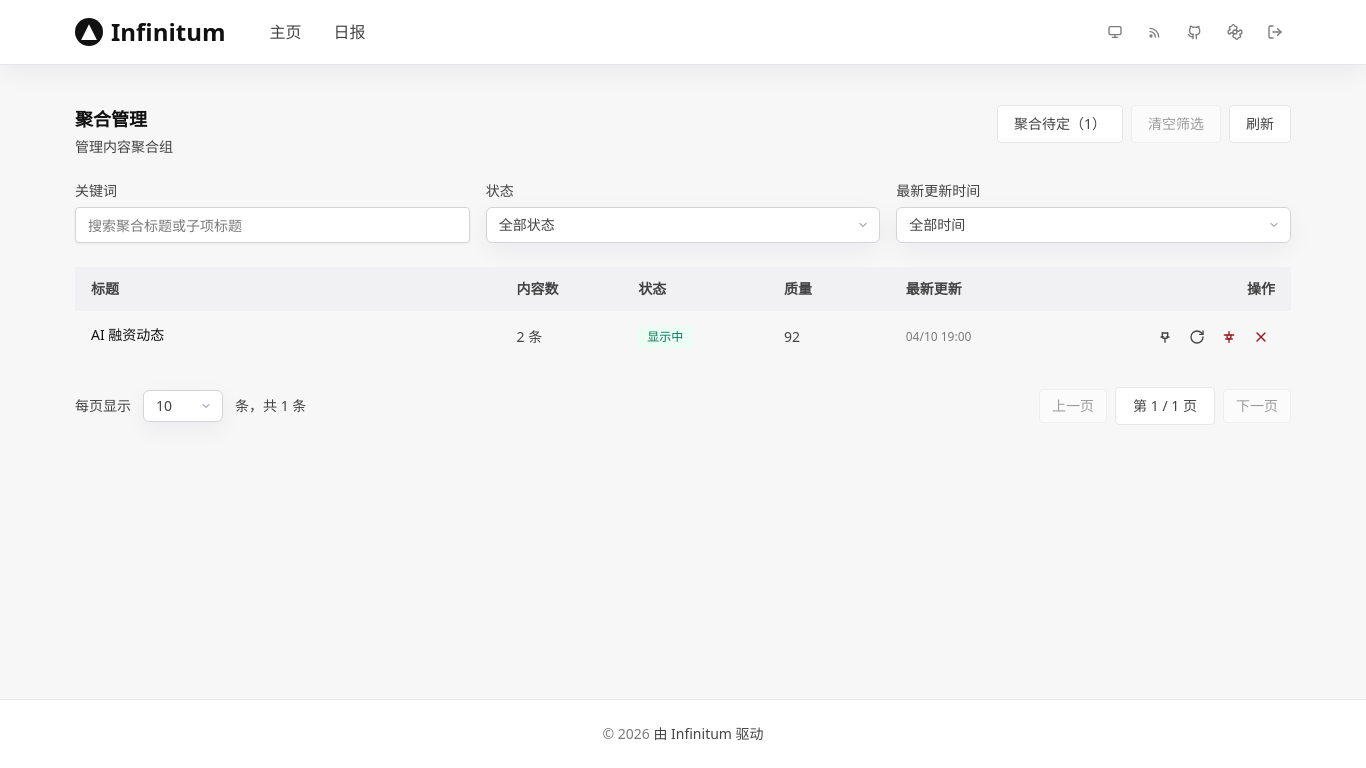
Scenario: ContentReviewPanel › loads cluster review candidates and merges one from the review queue
The width and height of the screenshot is (1366, 768).
Click the button "聚合待定（1）" at (1060, 124), box [997, 105, 1123, 143]
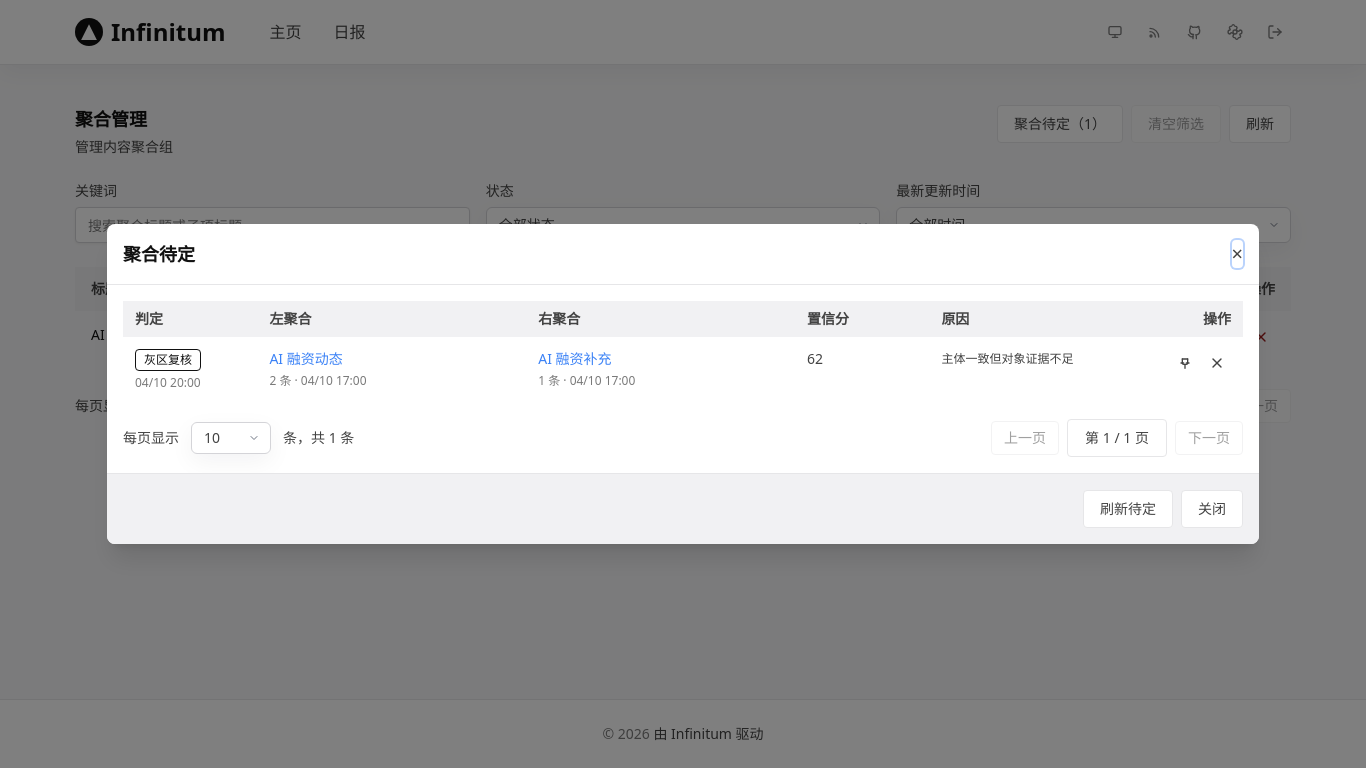
Expected: the button "AI 融资补充" is shown
Expected: the column heading "置信分" is shown, [795, 301, 929, 337]
Expected: the text "62" is shown, [795, 337, 929, 403]
Click the button "AI 融资补充" at (575, 359), box [538, 349, 612, 369]
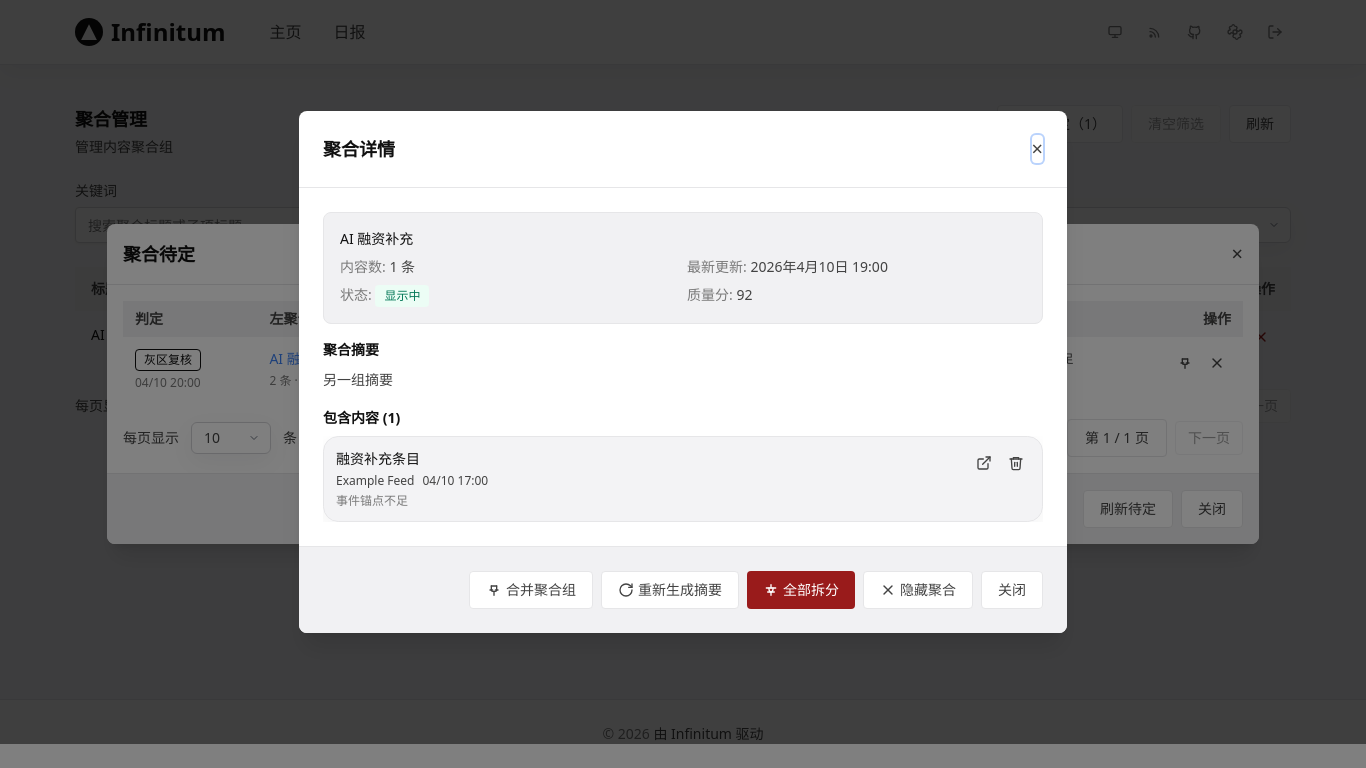
Expected: the text "另一组摘要" is shown, [323, 370, 393, 389]
Expected: the heading "包含内容 (1)" is shown, [323, 408, 400, 427]
Expected: the text "融资补充条目" is shown, [336, 449, 420, 468]
Click the button "关闭" at (1012, 590), box [981, 571, 1043, 609]
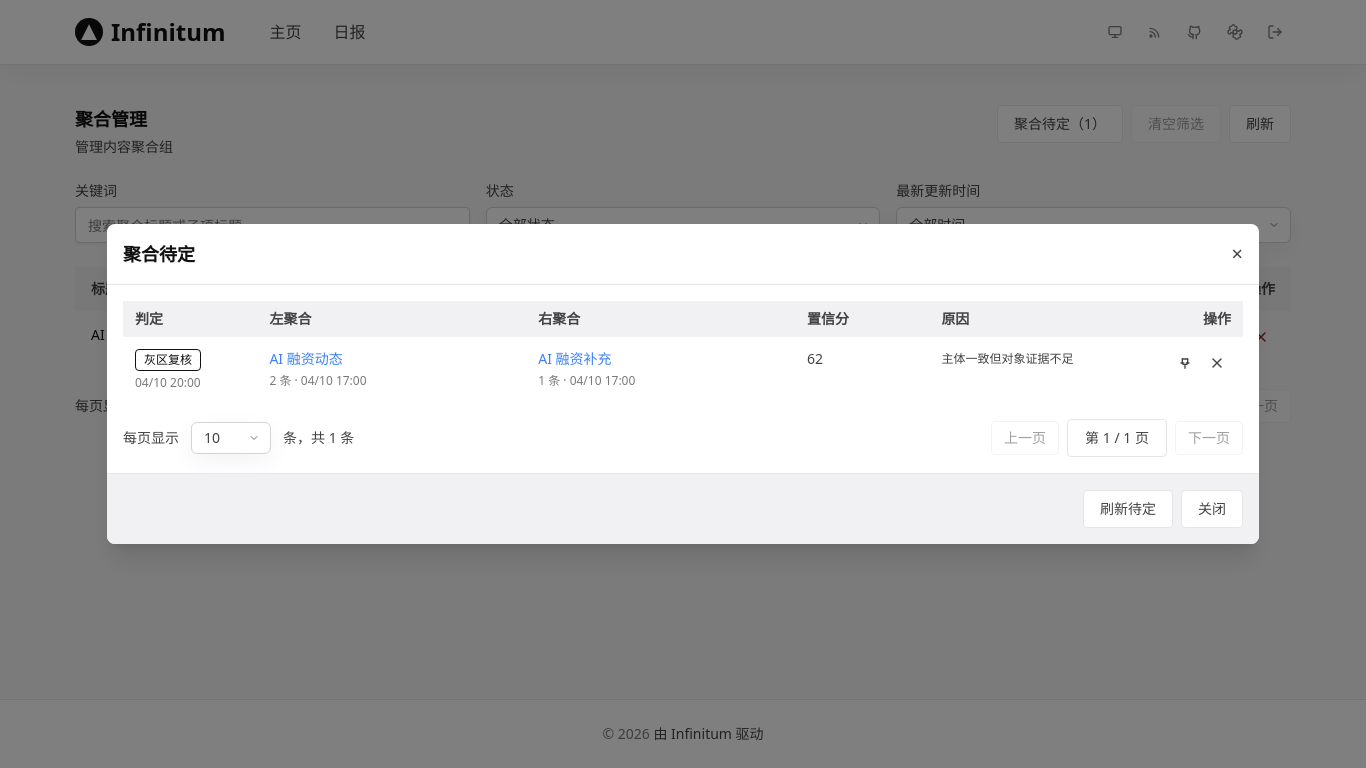
Click the button named "合并待定" at (1185, 363), box [1171, 349, 1199, 377]
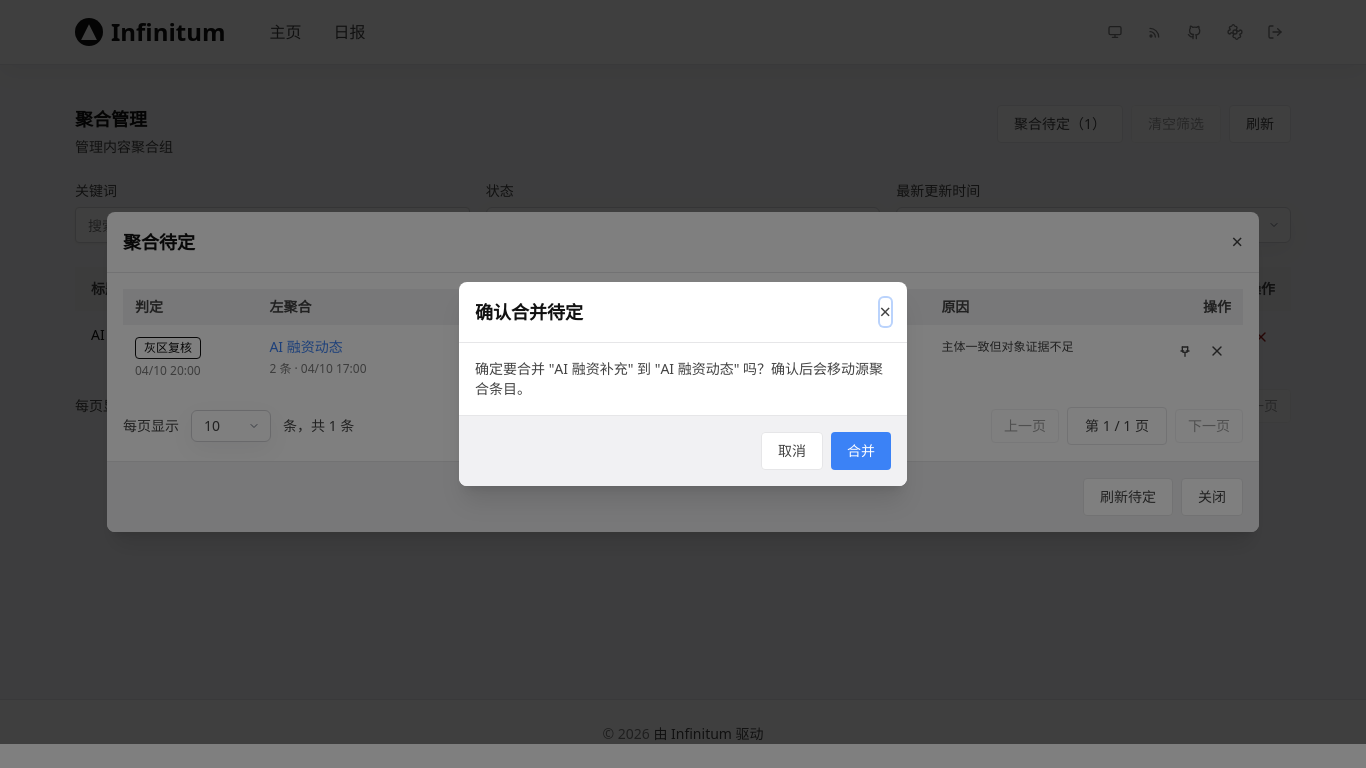
Expected: the dialog "确认合并待定" is shown, [459, 282, 907, 486]
Click the button "合并" at (861, 451), box [831, 432, 891, 470]
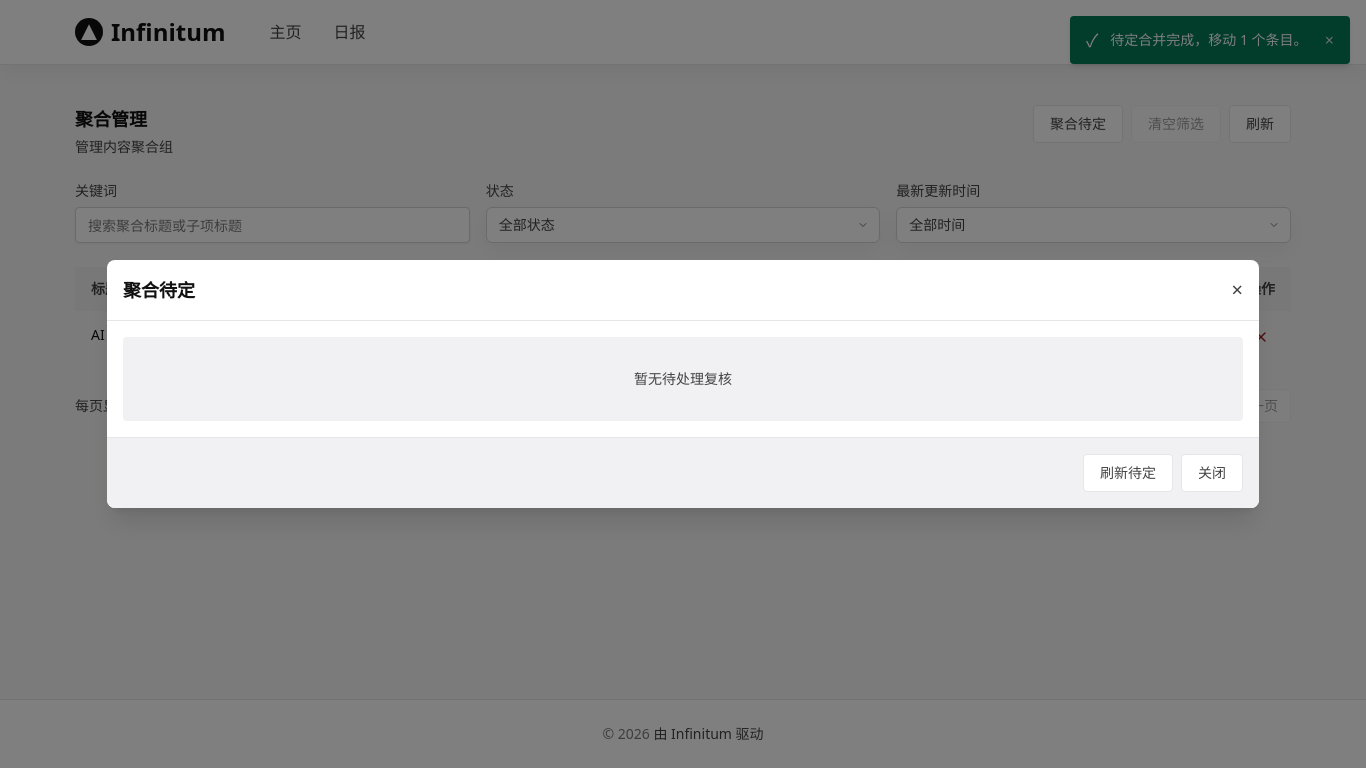
Expected: the button "AI 融资补充" is not shown
Expected: the message shows "待定合并完成，移动 1 个条目。", [1110, 30, 1308, 49]
